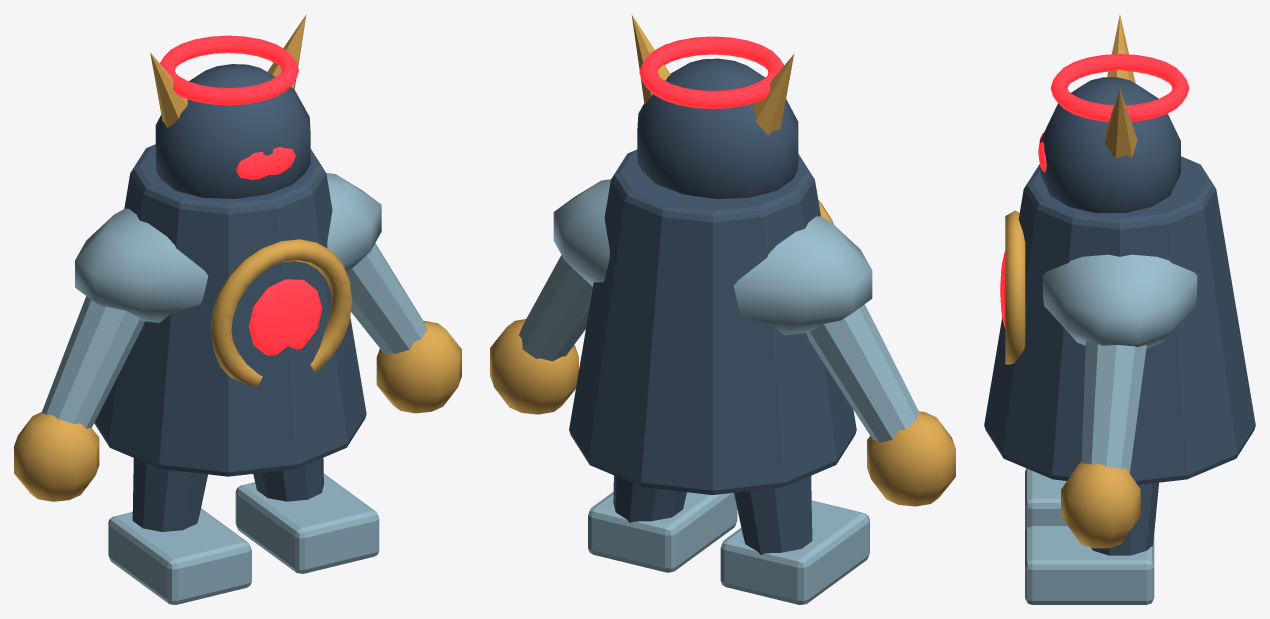
The model's file is enemy-boss.glb.
3 views of the same model, side by side, from view 1: azimuth 30°, elevation 25°; view 2: azimuth 150°, elevation 25°; view 3: azimuth 270°, elevation 25° (orthographic). The views are drawn at different scales.
Visible parts, largest first — view 1: BossTorso, BossHead, BossShoulders, BossFoot1, BossFoot-1, BossArm-1, BossClock, BossFist-1, BossFist1, BossArm1, BossCrownClock, BossLeg-1 (+5 smaller); view 2: BossTorso, BossHead, BossShoulders, BossFoot-1, BossArm-1, BossFoot1, BossFist-1, BossCrownClock, BossFist1, BossArm1, BossLeg-1, BossLeg1 (+2 smaller); view 3: BossTorso, BossHead, BossShoulders, BossFoot1, BossArm1, BossFist1, BossCrownClock, BossClock, BossFoot-1, BossLeg1, BossHorn1, BossHorn-1.
Part boxes in pixels (x1=…): BossTorso: x1=94, y1=144, x2=366, y2=476; BossHead: x1=155, y1=64, x2=310, y2=198; BossShoulders: x1=75, y1=173, x2=381, y2=322; BossFoot1: x1=235, y1=473, x2=379, y2=573; BossFoot-1: x1=108, y1=508, x2=251, y2=604; BossArm-1: x1=41, y1=296, x2=144, y2=428; BossClock: x1=211, y1=239, x2=351, y2=386; BossFist-1: x1=14, y1=412, x2=99, y2=501; BossFist1: x1=376, y1=321, x2=461, y2=413; BossArm1: x1=347, y1=243, x2=427, y2=353; BossCrownClock: x1=160, y1=35, x2=298, y2=105; BossLeg-1: x1=132, y1=458, x2=207, y2=531; BossTorso: x1=569, y1=149, x2=856, y2=494; BossHead: x1=637, y1=58, x2=798, y2=198; BossShoulders: x1=553, y1=179, x2=872, y2=335; BossFoot-1: x1=720, y1=500, x2=869, y2=604; BossArm-1: x1=806, y1=304, x2=919, y2=442; BossFoot1: x1=588, y1=492, x2=737, y2=572; BossFist-1: x1=867, y1=411, x2=955, y2=506; BossCrownClock: x1=639, y1=36, x2=783, y2=108; BossFist1: x1=490, y1=319, x2=578, y2=414; BossArm1: x1=519, y1=255, x2=592, y2=361; BossLeg-1: x1=734, y1=476, x2=812, y2=554; BossLeg1: x1=613, y1=475, x2=686, y2=522; BossTorso: x1=984, y1=156, x2=1255, y2=484; BossHead: x1=1040, y1=77, x2=1180, y2=212; BossShoulders: x1=1042, y1=254, x2=1197, y2=348; BossFoot1: x1=1025, y1=526, x2=1154, y2=604; BossArm1: x1=1082, y1=340, x2=1146, y2=473; BossFist1: x1=1061, y1=461, x2=1140, y2=548; BossCrownClock: x1=1050, y1=54, x2=1189, y2=121; BossClock: x1=1005, y1=210, x2=1025, y2=364; BossFoot-1: x1=1025, y1=468, x2=1067, y2=531; BossLeg1: x1=1091, y1=482, x2=1158, y2=555; BossHorn1: x1=1104, y1=89, x2=1137, y2=158; BossHorn-1: x1=1107, y1=15, x2=1135, y2=83.
Size of the model in its own units: 2.59 by 2.93 by 1.43.
